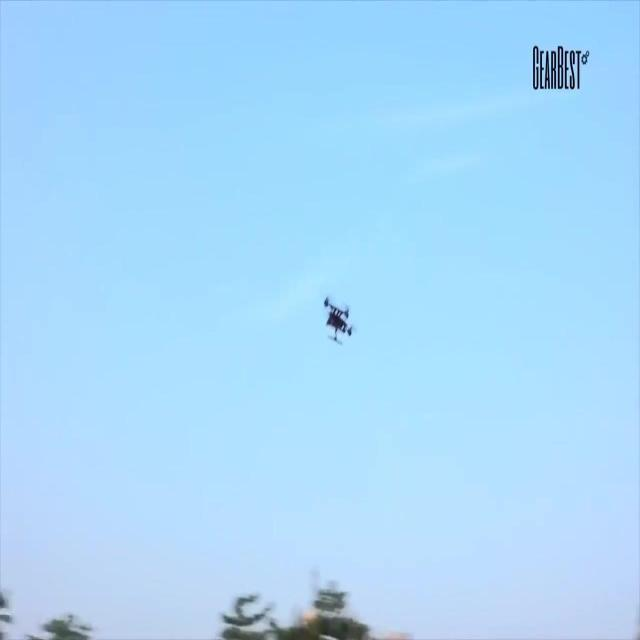drone: (323, 296, 357, 349)
